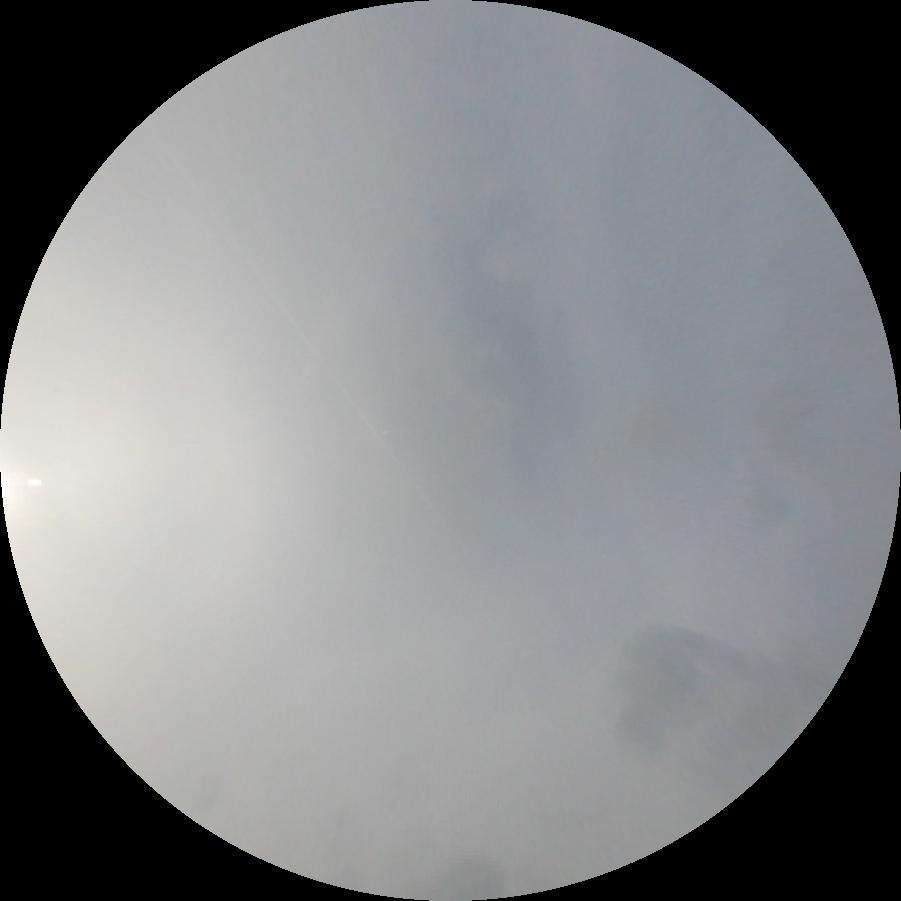contrail young: (171, 153, 472, 553)
